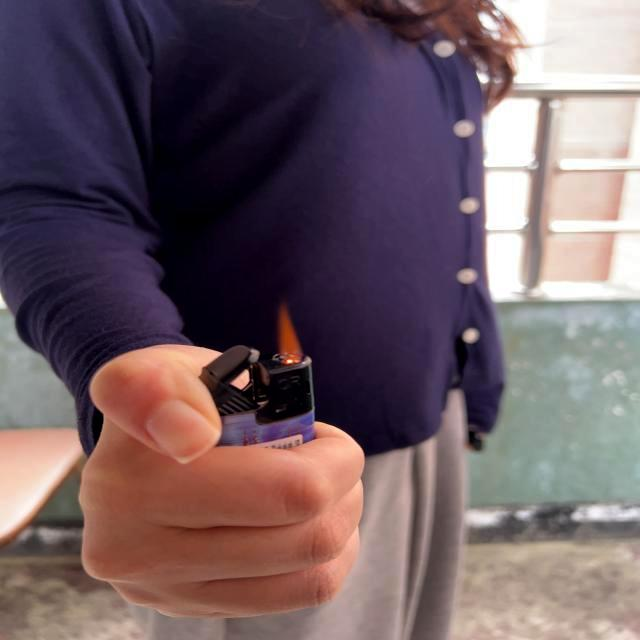fire: (276, 298, 304, 367)
